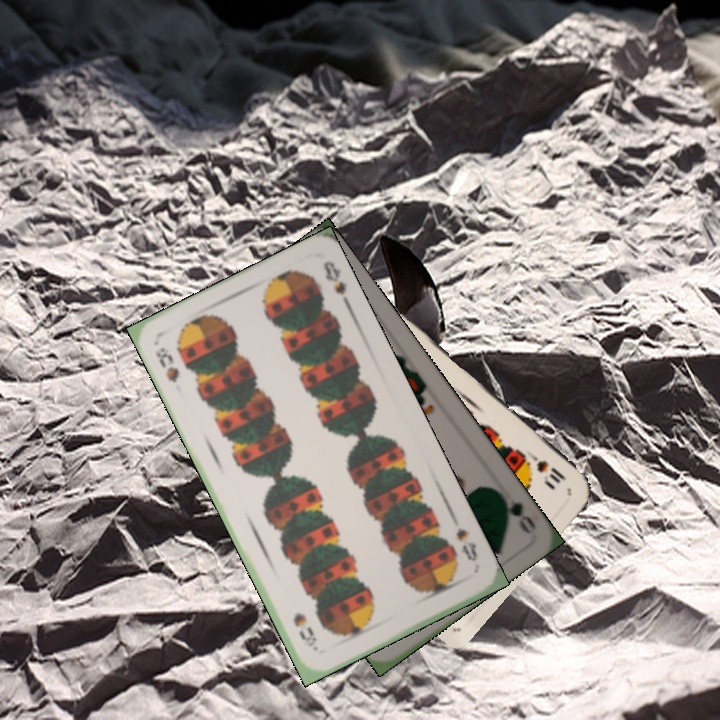GO: (489, 481, 538, 536)
S10: (521, 446, 569, 486)
S8: (151, 343, 182, 386), (451, 523, 480, 564)
